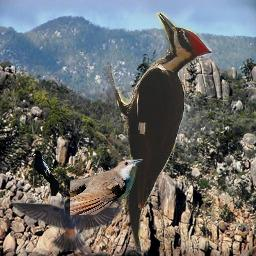Crow: (32, 150, 59, 196)
Cuckoo: (70, 159, 143, 215)
Swallow: (7, 196, 123, 252)
Woodpecker: (102, 12, 212, 253)
